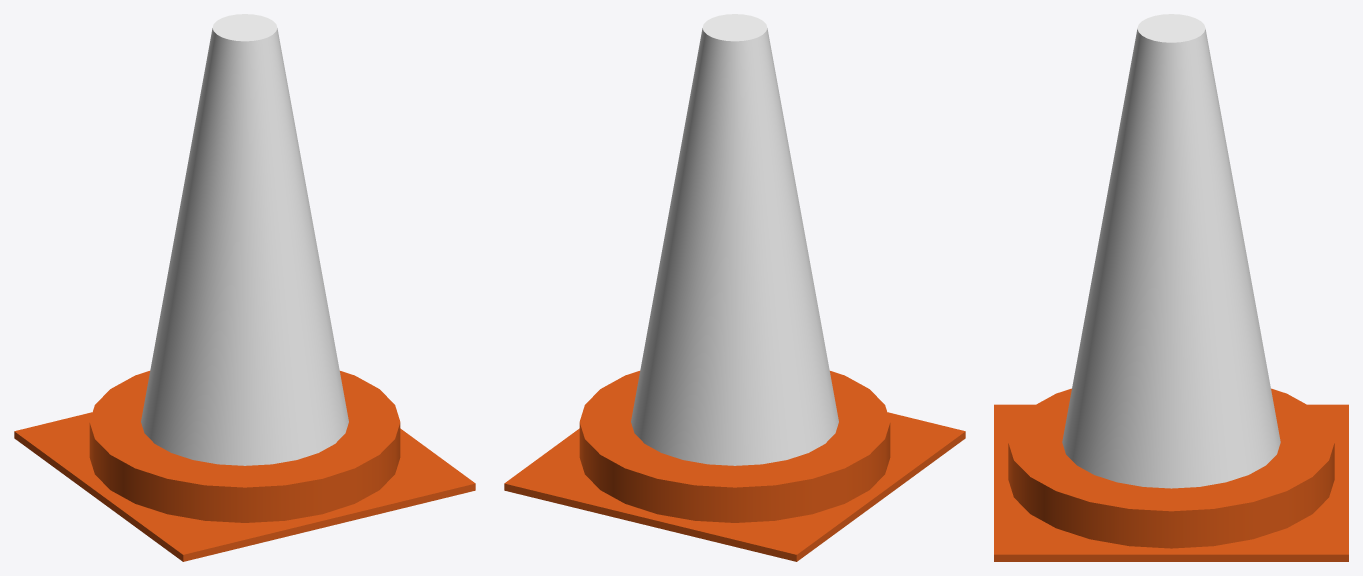
Rendered from MESH_orange_cone.glb.
3 renders of one model, left to right at view 1: azimuth 30°, elevation 25°; view 2: azimuth 150°, elevation 25°; view 3: azimuth 270°, elevation 25°, orthographic. The views are drawn at different scales.
Visible parts, largest first — view 1: orange_cone; view 2: orange_cone; view 3: orange_cone.
Part boxes in pixels (x1,y1,x2,y2): orange_cone: (14, 14, 475, 561); orange_cone: (504, 14, 965, 561); orange_cone: (994, 14, 1348, 561).
Size of the model in its own units: 0.228 by 0.3252 by 0.228.
